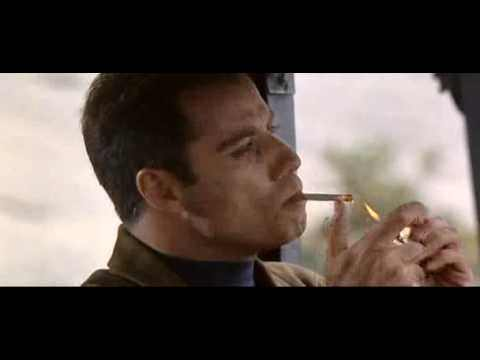cigarette: (282, 178, 367, 218)
